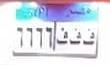6: (45, 26, 54, 49), (25, 26, 34, 49), (35, 26, 43, 49), (16, 26, 24, 48)
faa: (83, 27, 96, 47), (56, 26, 69, 46), (69, 27, 82, 46)
